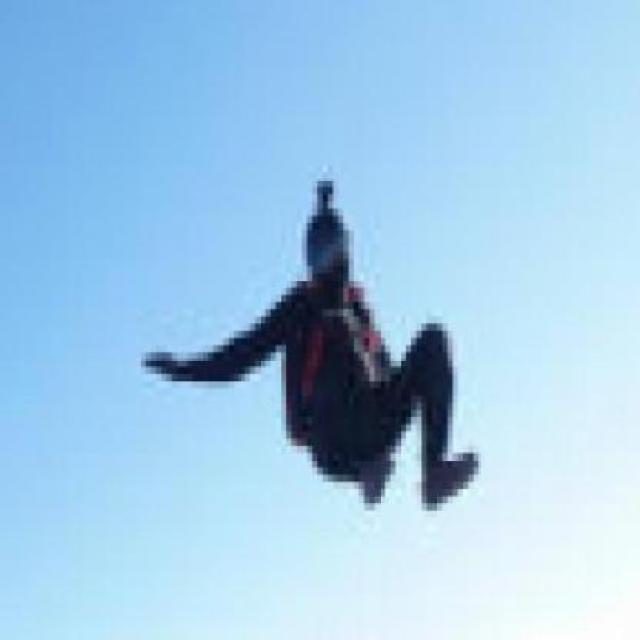fall: (133, 172, 484, 526)
